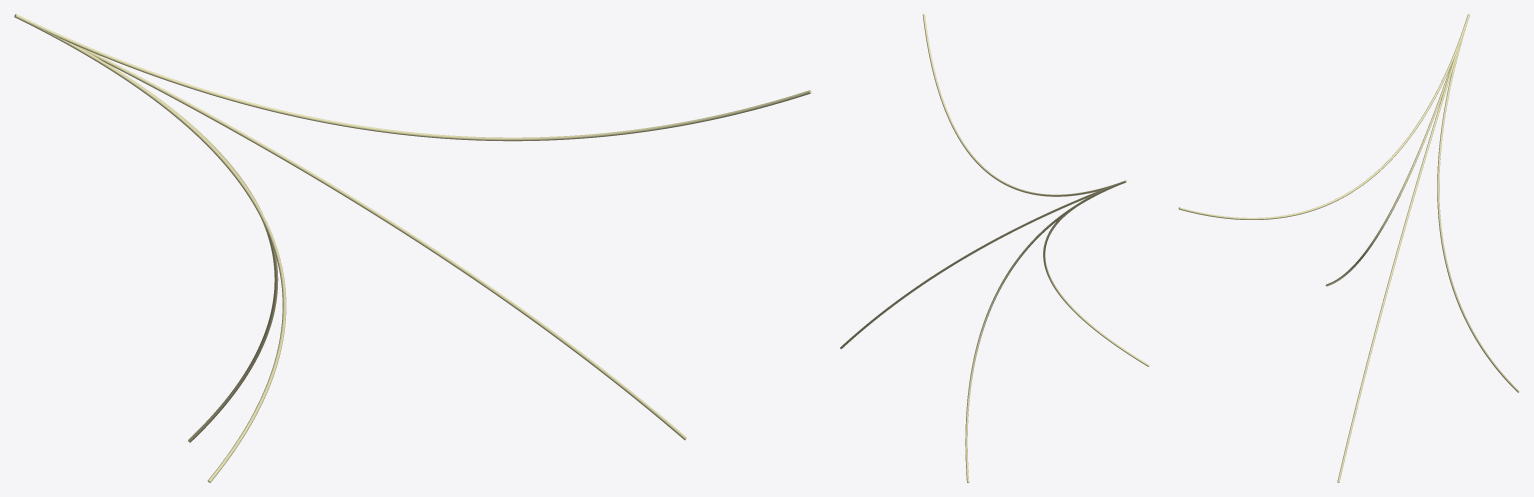
File: AnonymousAnamankaSTRINGS.gltf
3 renders of one model, left to right at view 1: azimuth 30°, elevation 25°; view 2: azimuth 150°, elevation 25°; view 3: azimuth 270°, elevation 25°, orthographic. The views are drawn at different scales.
Visible parts, largest first — view 1: AnonymousAnamankaSTRINGS; view 2: AnonymousAnamankaSTRINGS; view 3: AnonymousAnamankaSTRINGS.
Part boxes in pixels (<box>): AnonymousAnamankaSTRINGS: <box>14,14,811,482</box>; AnonymousAnamankaSTRINGS: <box>840,14,1149,482</box>; AnonymousAnamankaSTRINGS: <box>1178,14,1519,482</box>.
Bounding box in the file's own units: 17.64 × 15.16 × 14.91.
